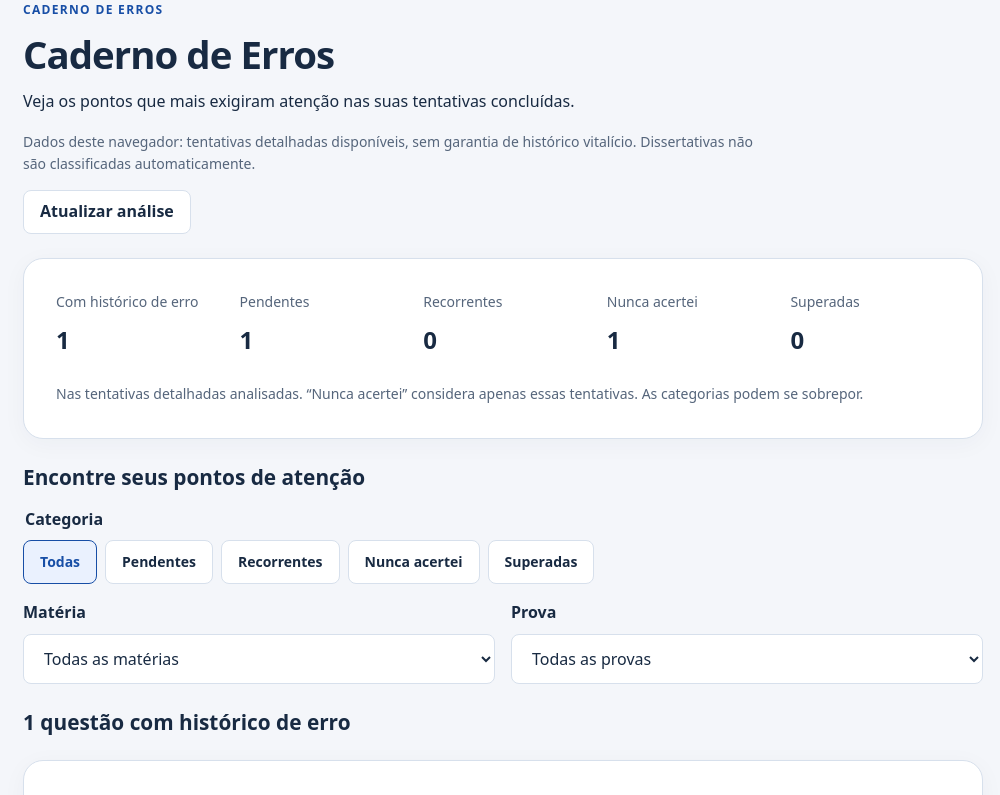
Test case: read-only notebook page › pageshow/storage/manual refresh read only, reflect reset; ignored keys do not reload
The width and height of the screenshot is (1000, 795).
Click the button "Atualizar análise" at (107, 212), box [23,190,191,234]
(page scrolled)
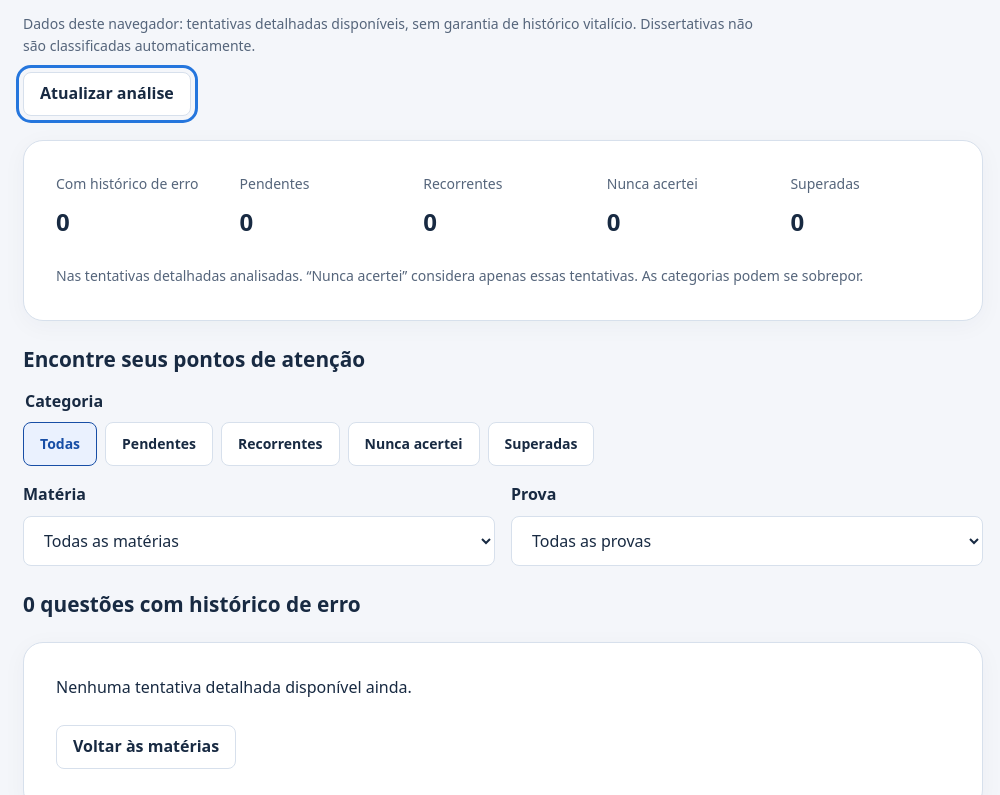
Expected: the text "Nenhuma tentativa detalhada disponível ainda." is shown, [56,676,412,698]
